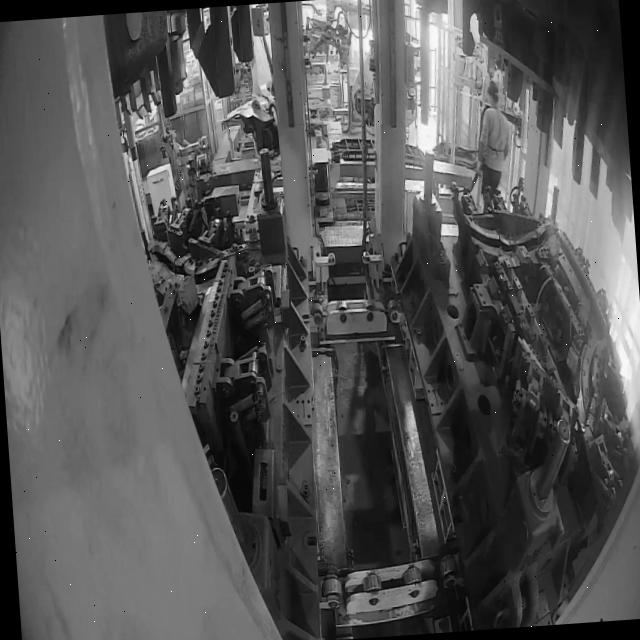Person: (470, 78, 514, 212)
